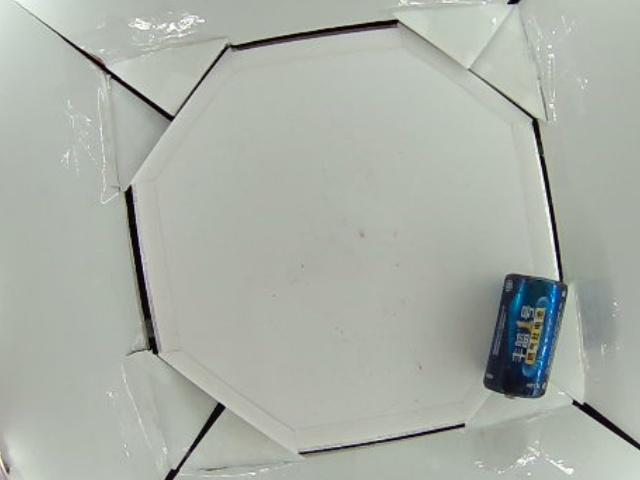Battery: (484, 274, 570, 396)
